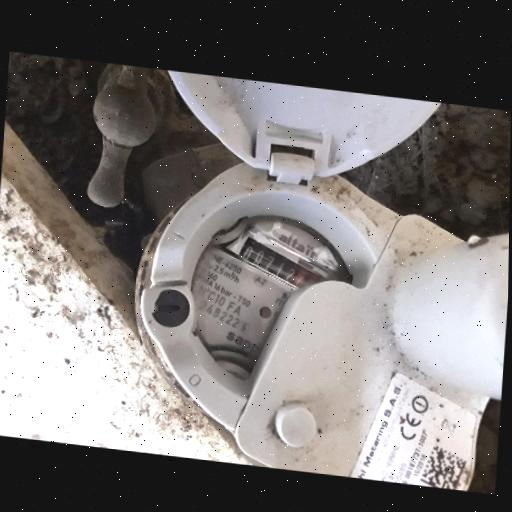0: (238, 235, 260, 263), (249, 241, 270, 269)
1: (271, 253, 293, 280)
2: (281, 260, 301, 286)
5: (292, 265, 310, 290)
7: (260, 248, 280, 274)
border_water_meter_number: (226, 220, 335, 307)
